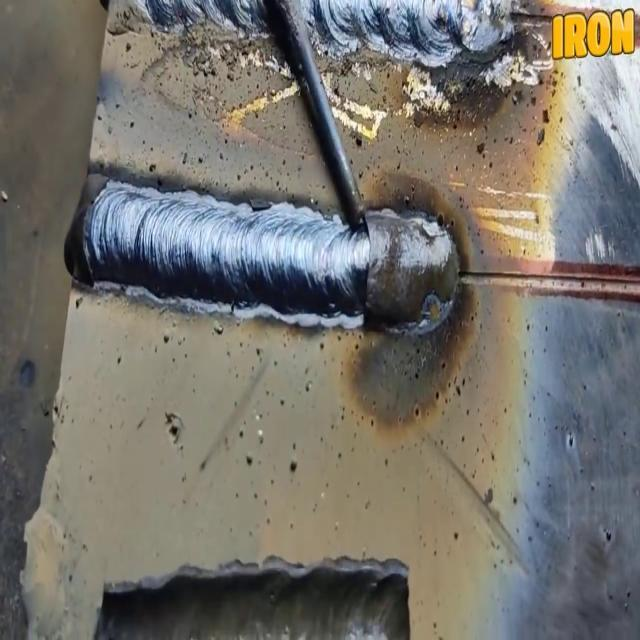Good Welding: (70, 165, 465, 340), (132, 0, 514, 71)
